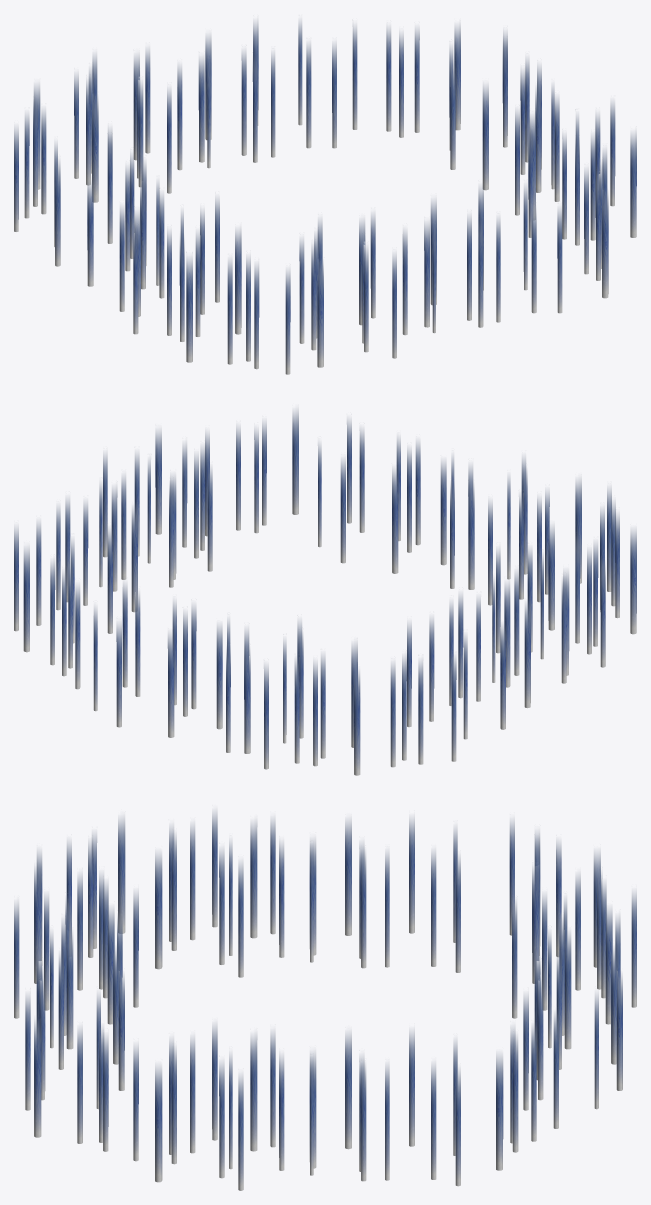
Rendered from bgtrees.glb.
3 views of the same model, one above another, from view 1: azimuth 30°, elevation 25°; view 2: azimuth 150°, elevation 25°; view 3: azimuth 270°, elevation 25° (orthographic). The views are drawn at different scales.
Parts seen in each view (by area): view 1: trees.001; view 2: trees.001; view 3: trees.001.
Part boxes in pixels (box(x1,y1,x2,y2)): trees.001: box(14, 20, 636, 374); trees.001: box(14, 409, 636, 775); trees.001: box(14, 810, 636, 1190).
Size of the model in its own units: 116 by 24.68 by 115.
Materials: 1 (1 with a texture image).
